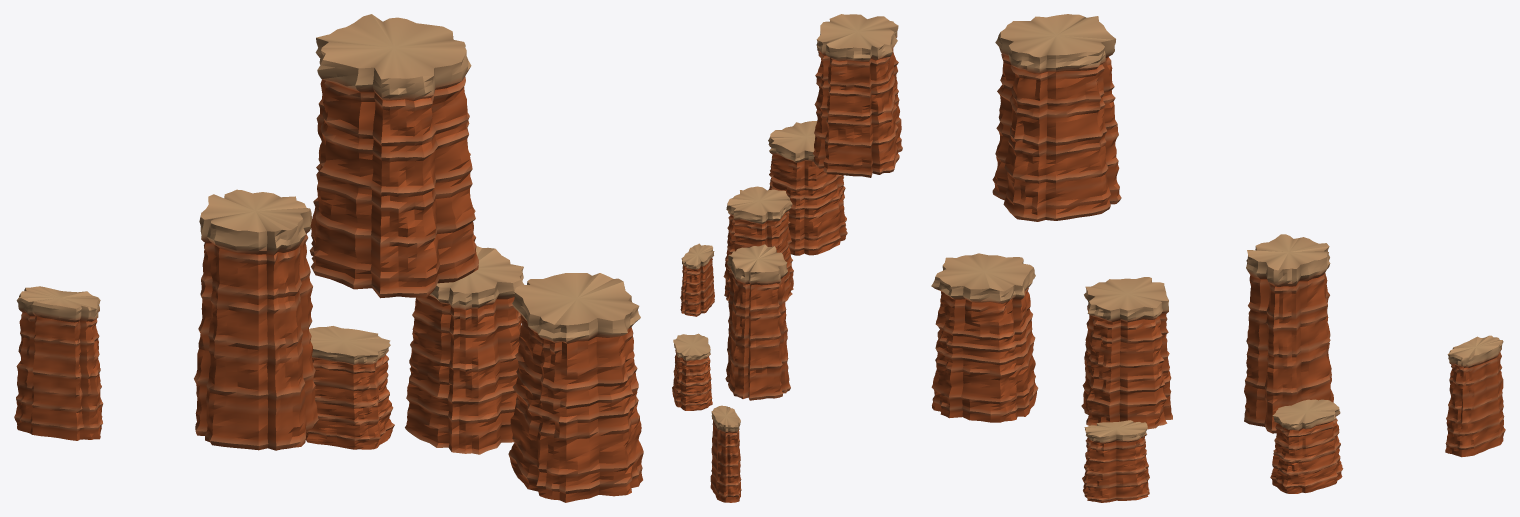
Rendered from terrain-086.glb.
3 renders of one model, left to right at view 1: azimuth 30°, elevation 25°; view 2: azimuth 150°, elevation 25°; view 3: azimuth 270°, elevation 25°, orthographic. The views are drawn at different scales.
Parts seen in each view (by area): view 1: terrain-086; view 2: terrain-086; view 3: terrain-086.
Boxes of the visible parts, x1=… form: terrain-086: x1=14, y1=14, x2=643, y2=502; terrain-086: x1=672, y1=14, x2=902, y2=502; terrain-086: x1=931, y1=14, x2=1505, y2=502.
Bounding box in the file's own units: 89.59 × 142 × 172.
